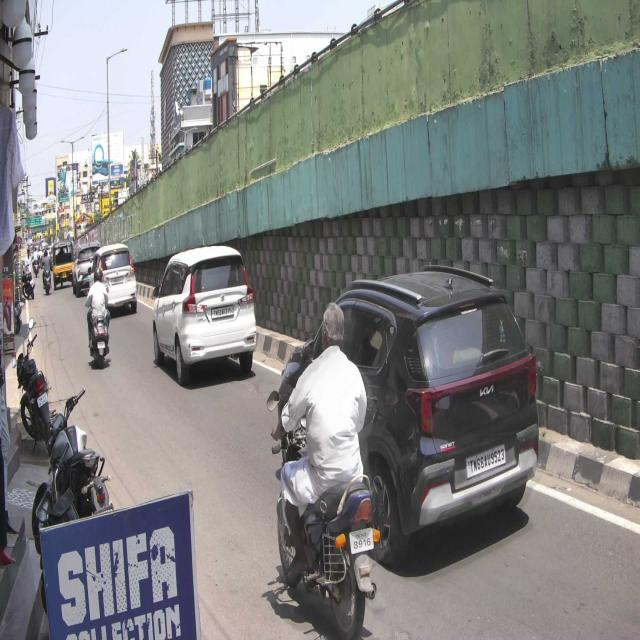single_rider: (269, 304, 382, 640)
